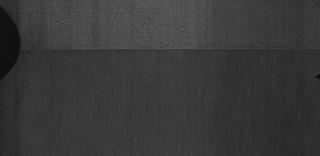welding line: (15, 44, 318, 54)
